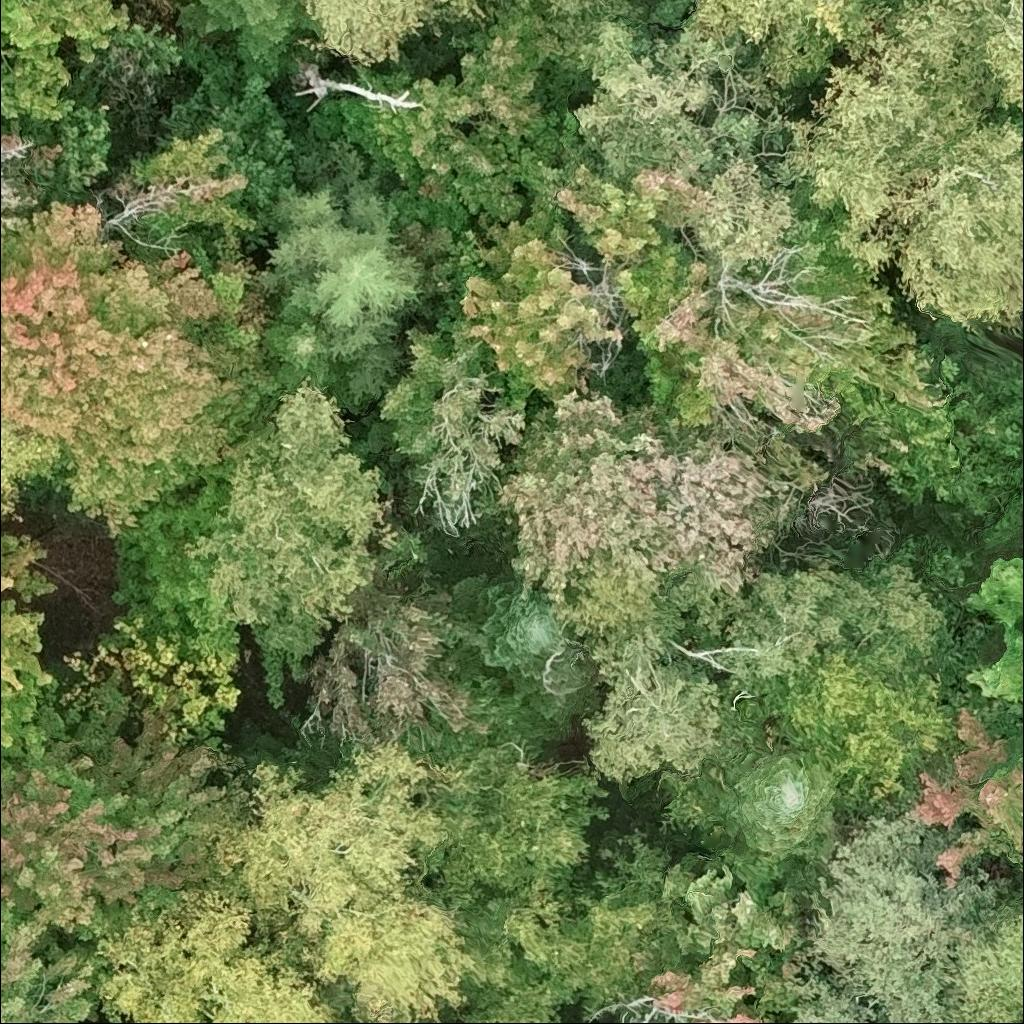crown: (458, 108, 933, 430), (692, 0, 1023, 331), (552, 541, 960, 787), (0, 201, 286, 536), (203, 746, 490, 1023), (496, 384, 799, 600), (0, 672, 234, 941), (312, 0, 569, 220), (183, 373, 399, 632), (782, 812, 1016, 1023), (546, 0, 797, 181), (401, 714, 617, 916), (755, 645, 994, 804), (265, 167, 425, 402), (461, 833, 669, 1012), (89, 882, 340, 1023), (642, 854, 822, 1023), (310, 587, 488, 749), (374, 294, 531, 462), (694, 722, 844, 891), (829, 342, 986, 501), (445, 559, 591, 727), (910, 699, 1023, 886), (0, 532, 72, 777), (0, 0, 127, 123), (128, 122, 259, 240), (0, 899, 111, 1023), (119, 465, 228, 587), (289, 0, 489, 66), (173, 0, 318, 79), (943, 884, 1023, 1023), (966, 546, 1023, 719), (289, 61, 423, 127), (0, 415, 70, 529), (262, 296, 342, 394), (465, 984, 566, 1023), (524, 0, 611, 23), (0, 140, 36, 187), (0, 112, 35, 143), (987, 107, 1023, 136), (124, 1022, 134, 1023), (1023, 865, 1023, 866)
